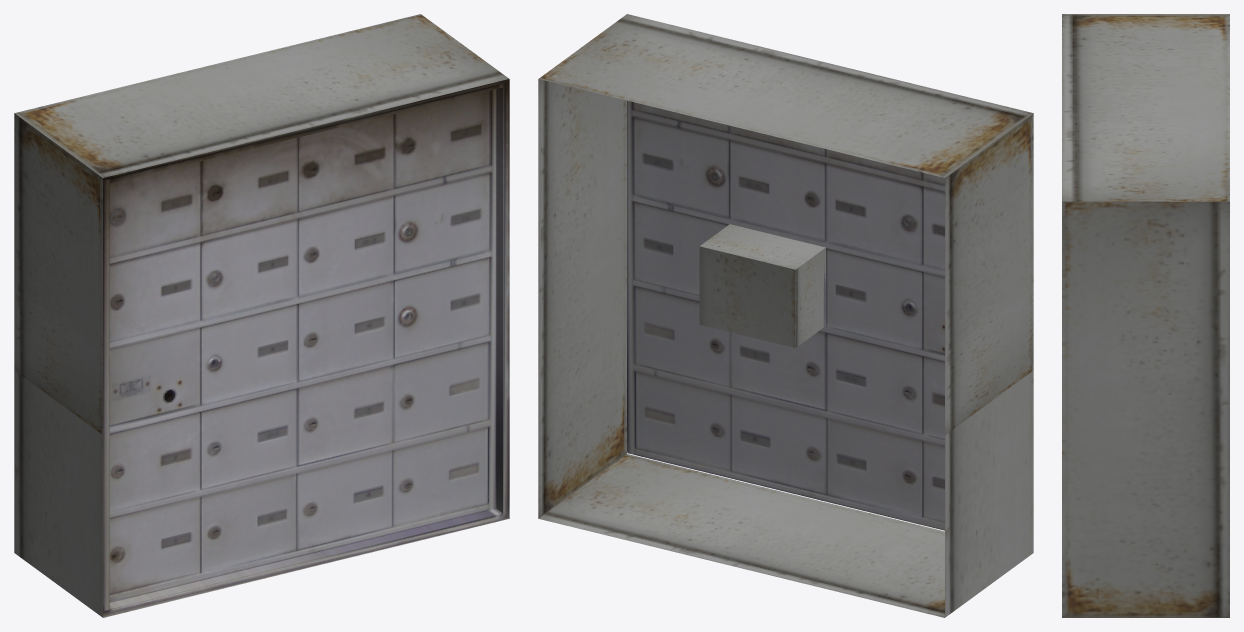
Rendered from lobby_mailbox.FBX.
3 renders of one model, left to right at view 1: azimuth 30°, elevation 25°; view 2: azimuth 150°, elevation 25°; view 3: azimuth 270°, elevation 25°, orthographic. The views are drawn at different scales.
Parts seen in each view (by area): view 1: apartment_mailboxes, apartment_mailbox_door; view 2: apartment_mailboxes; view 3: apartment_mailboxes.
Boxes of the visible parts, bbox=[...] form: apartment_mailboxes: bbox=[14, 14, 509, 617]; apartment_mailbox_door: bbox=[298, 279, 393, 381]; apartment_mailboxes: bbox=[538, 14, 1033, 617]; apartment_mailboxes: bbox=[1062, 14, 1229, 617].
Size of the model in its own units: 56.07 by 57.98 by 21.19.
